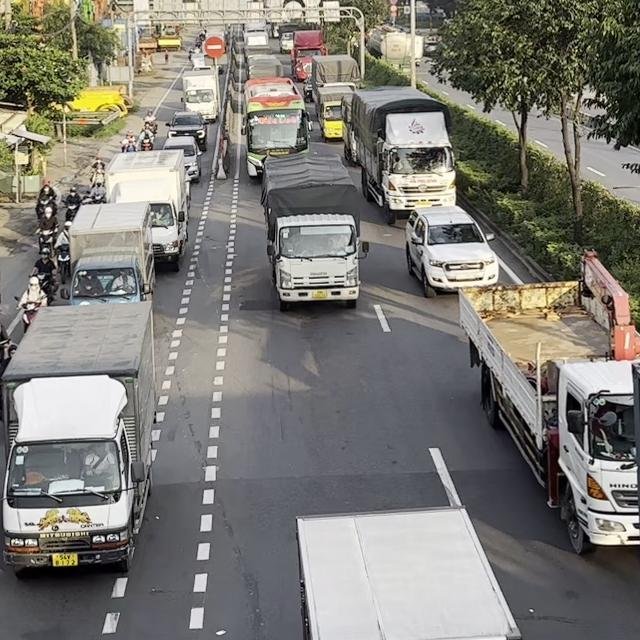bus: (241, 78, 311, 178)
car: (404, 203, 499, 298), (161, 135, 202, 183), (165, 110, 207, 150)
motorcycle: (14, 275, 48, 333), (136, 128, 154, 151)
truck: (457, 247, 639, 555), (0, 299, 156, 576), (259, 151, 368, 311), (341, 84, 457, 225), (103, 149, 191, 272), (66, 200, 156, 305), (317, 84, 358, 141), (181, 67, 220, 123), (289, 29, 327, 81)
